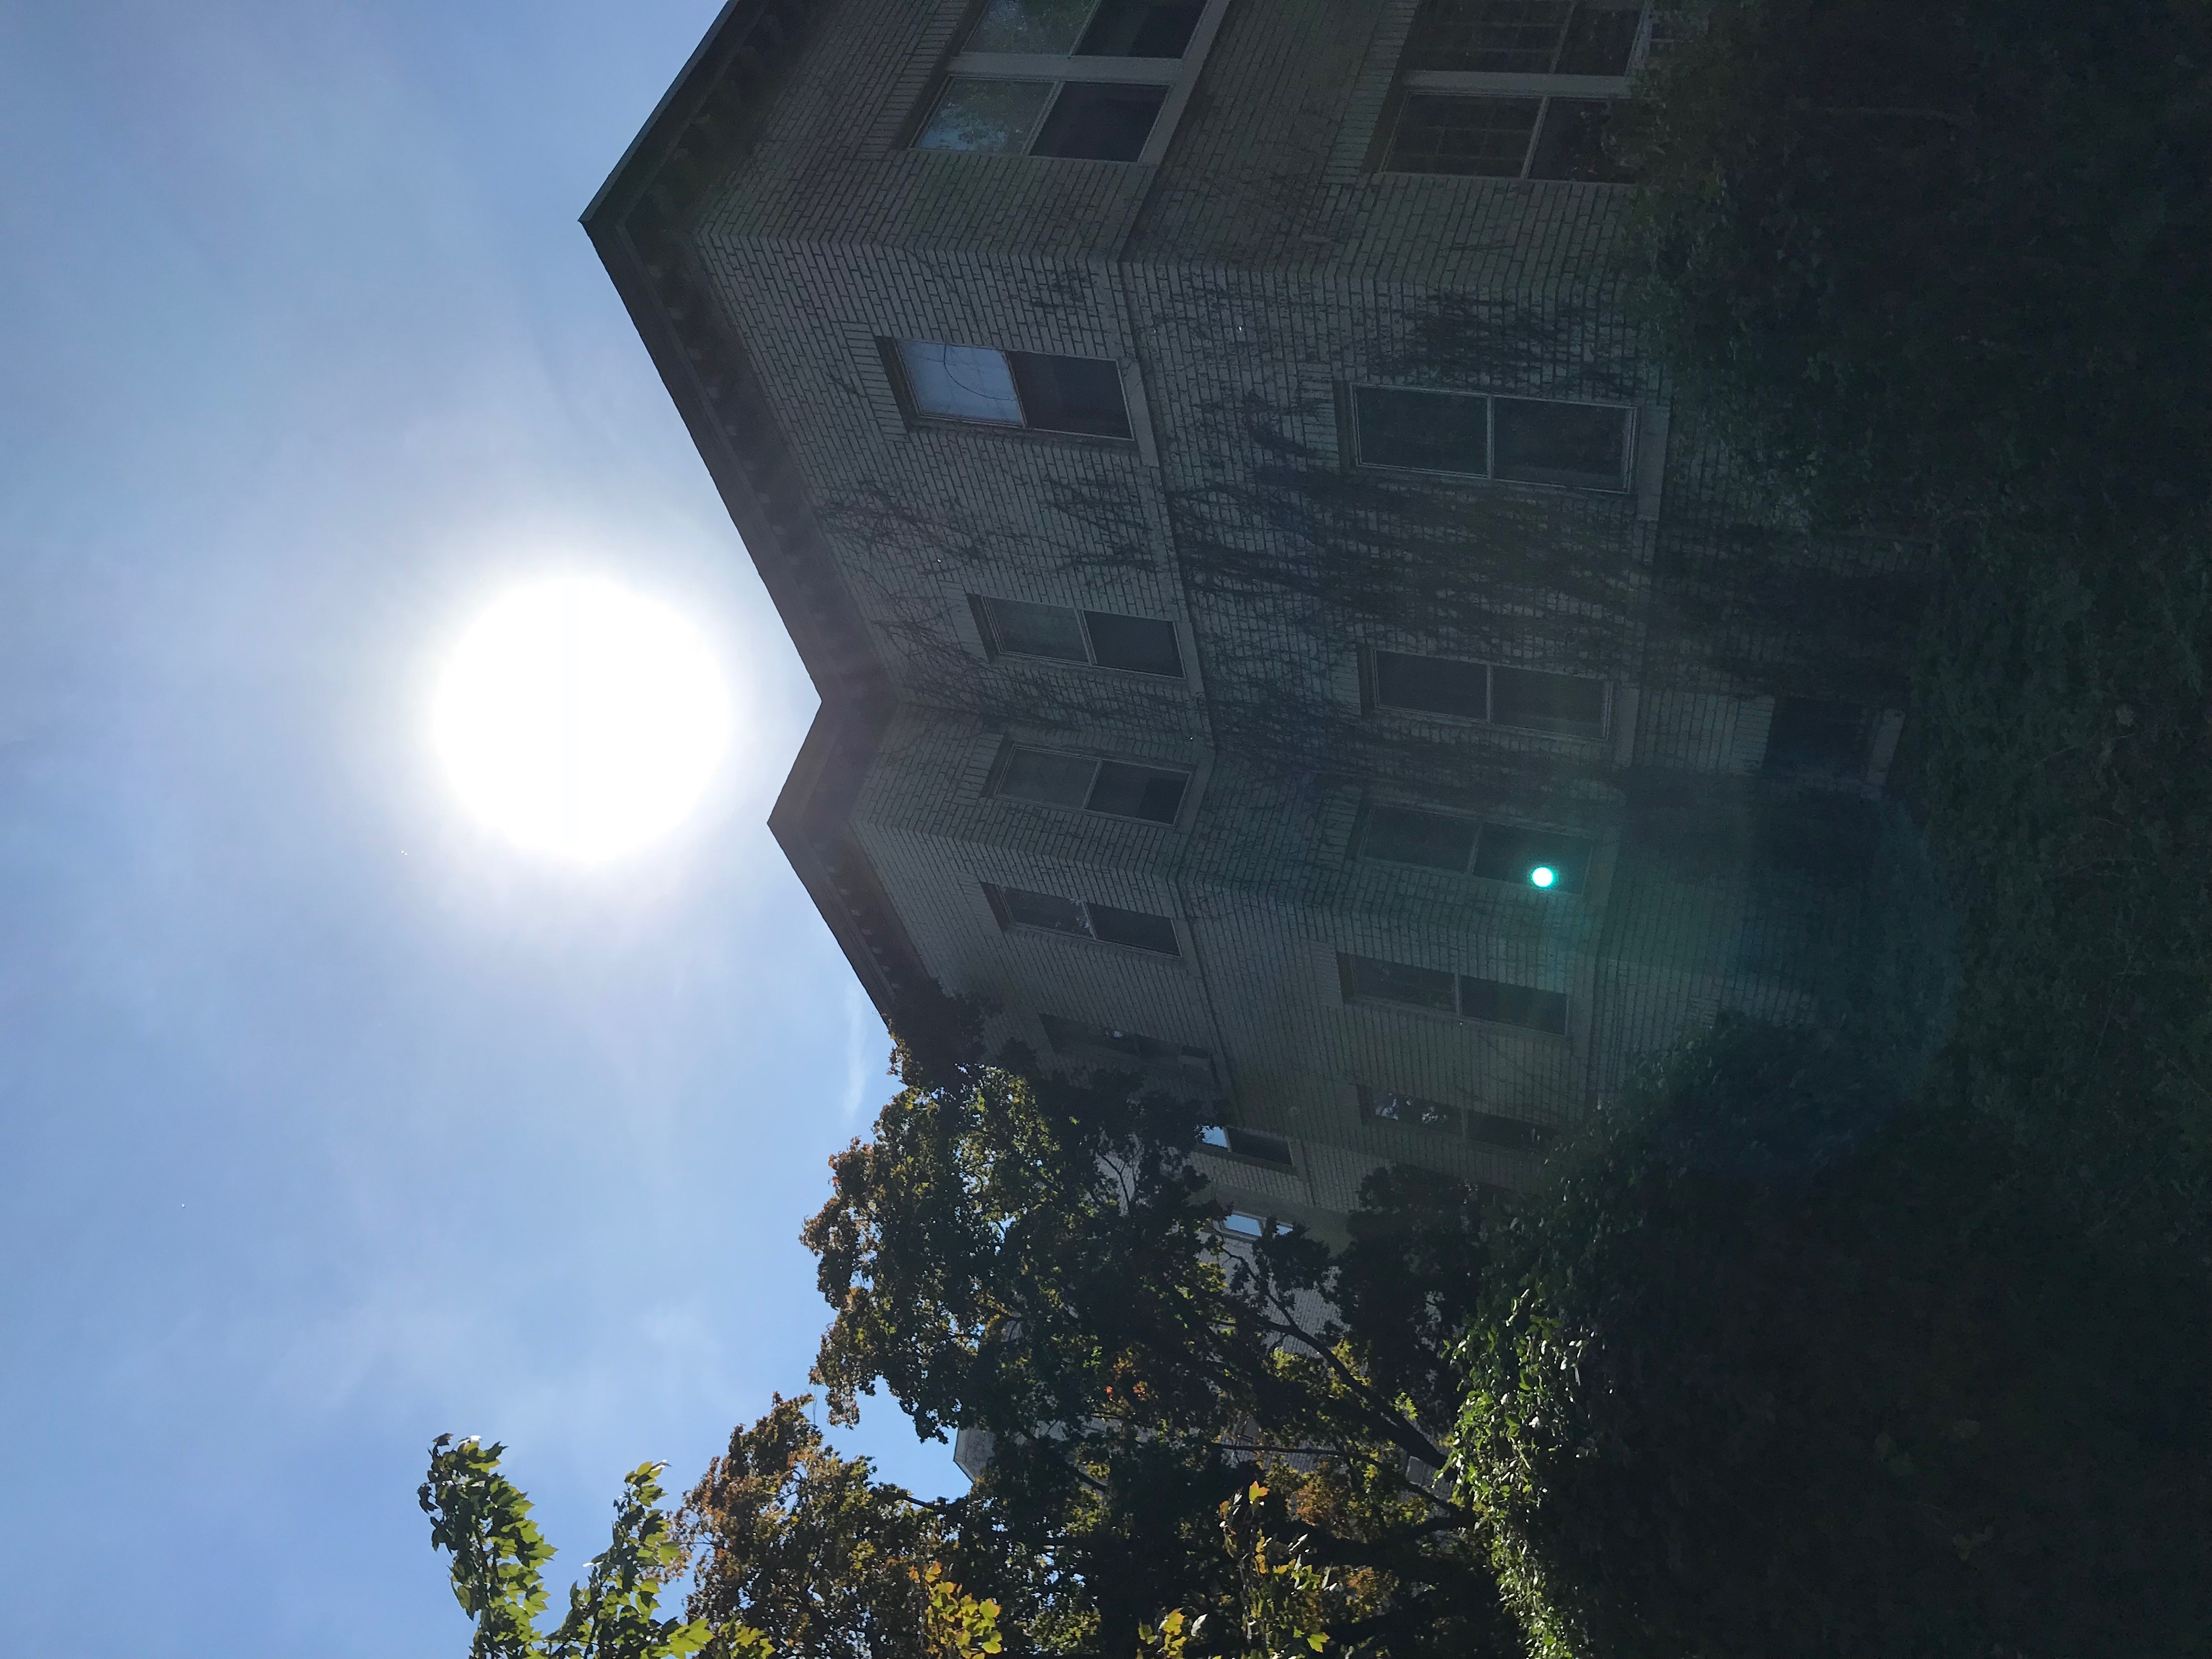flare: (1526, 864, 1562, 890)
